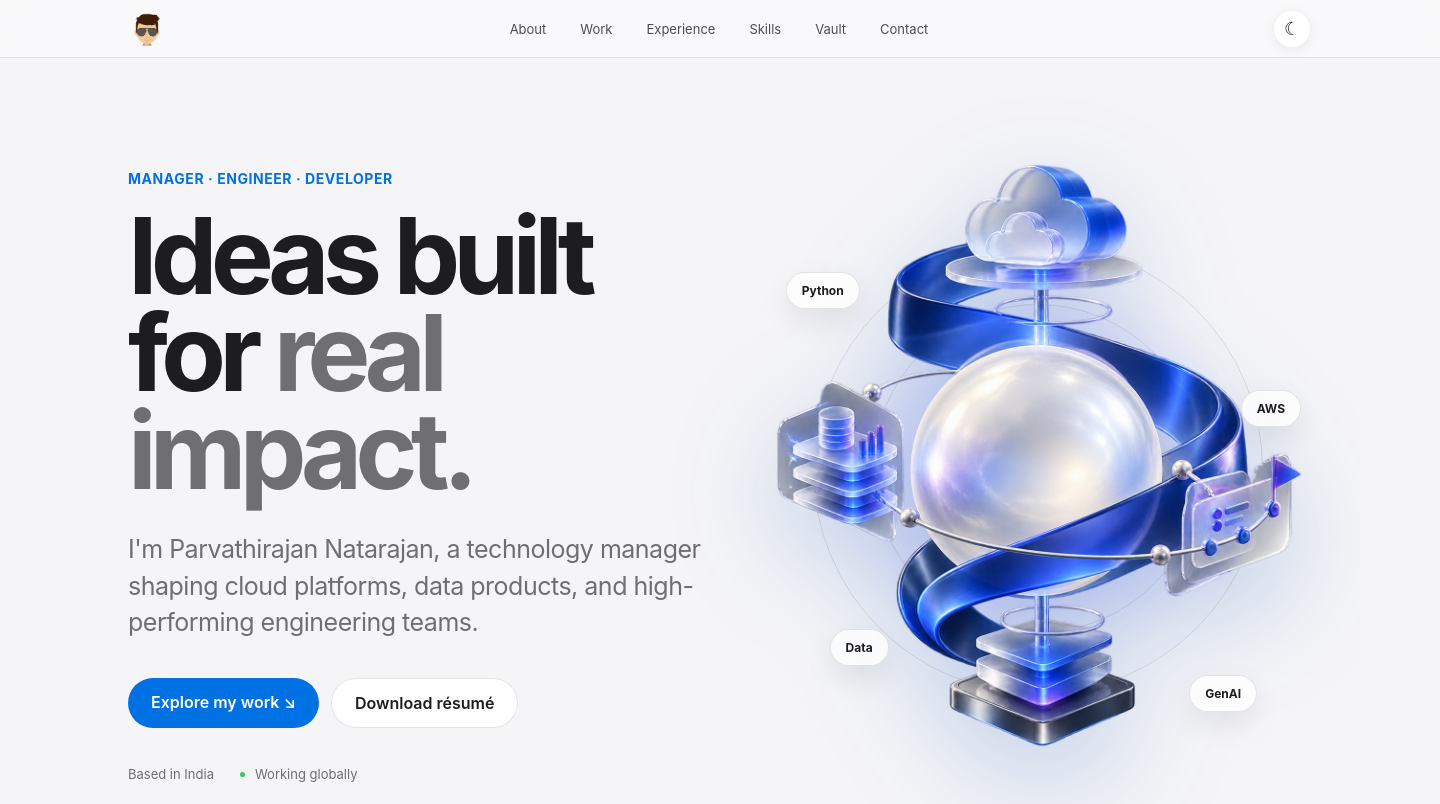
Test: locks the vault for five minutes after three incorrect passcodes
Step 1. Click the link "vault" → (831, 28), box x1=815 y1=20 x2=846 y2=36
(page scrolled)
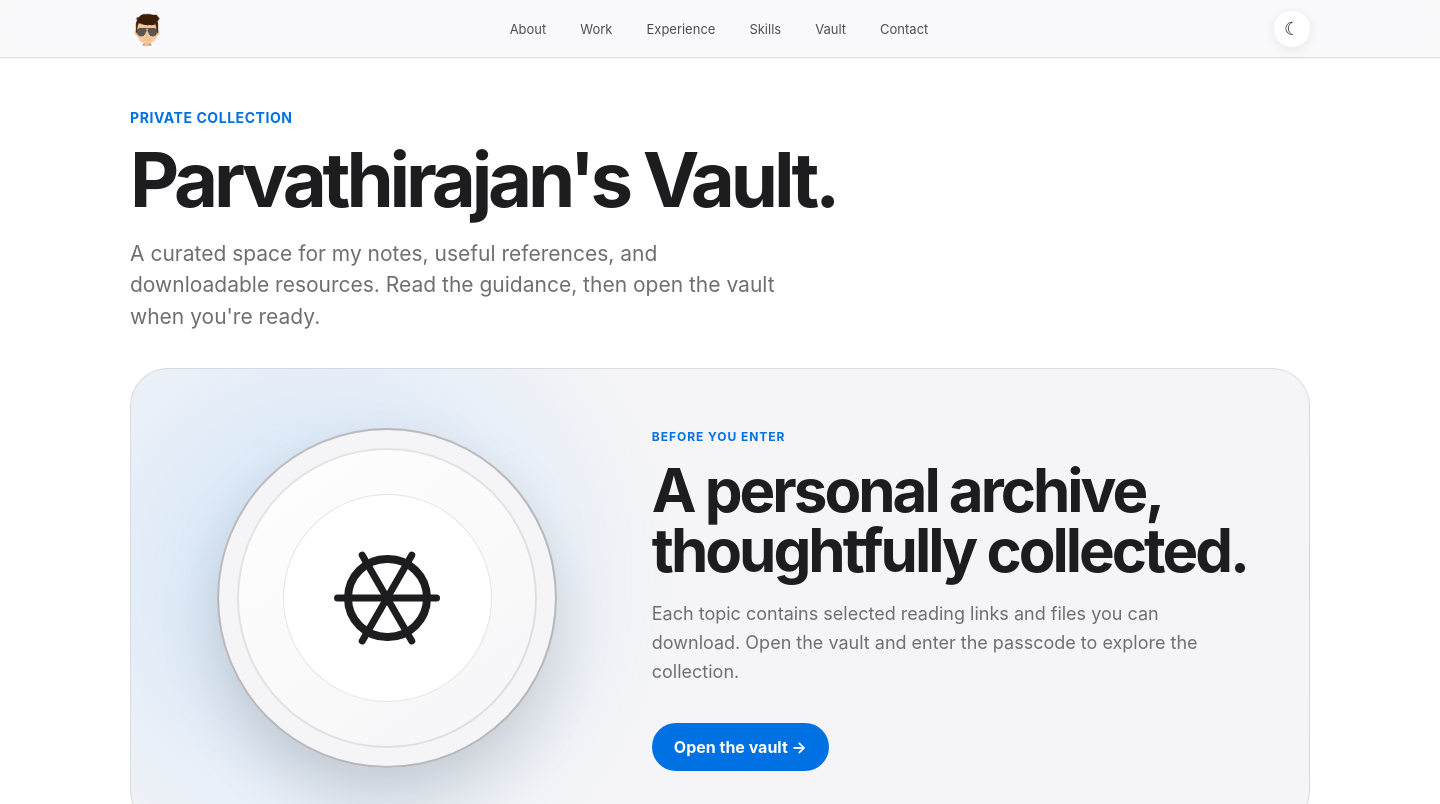
Step 2. Click the button "Open the vault →" → (740, 747), box x1=652 y1=723 x2=829 y2=771
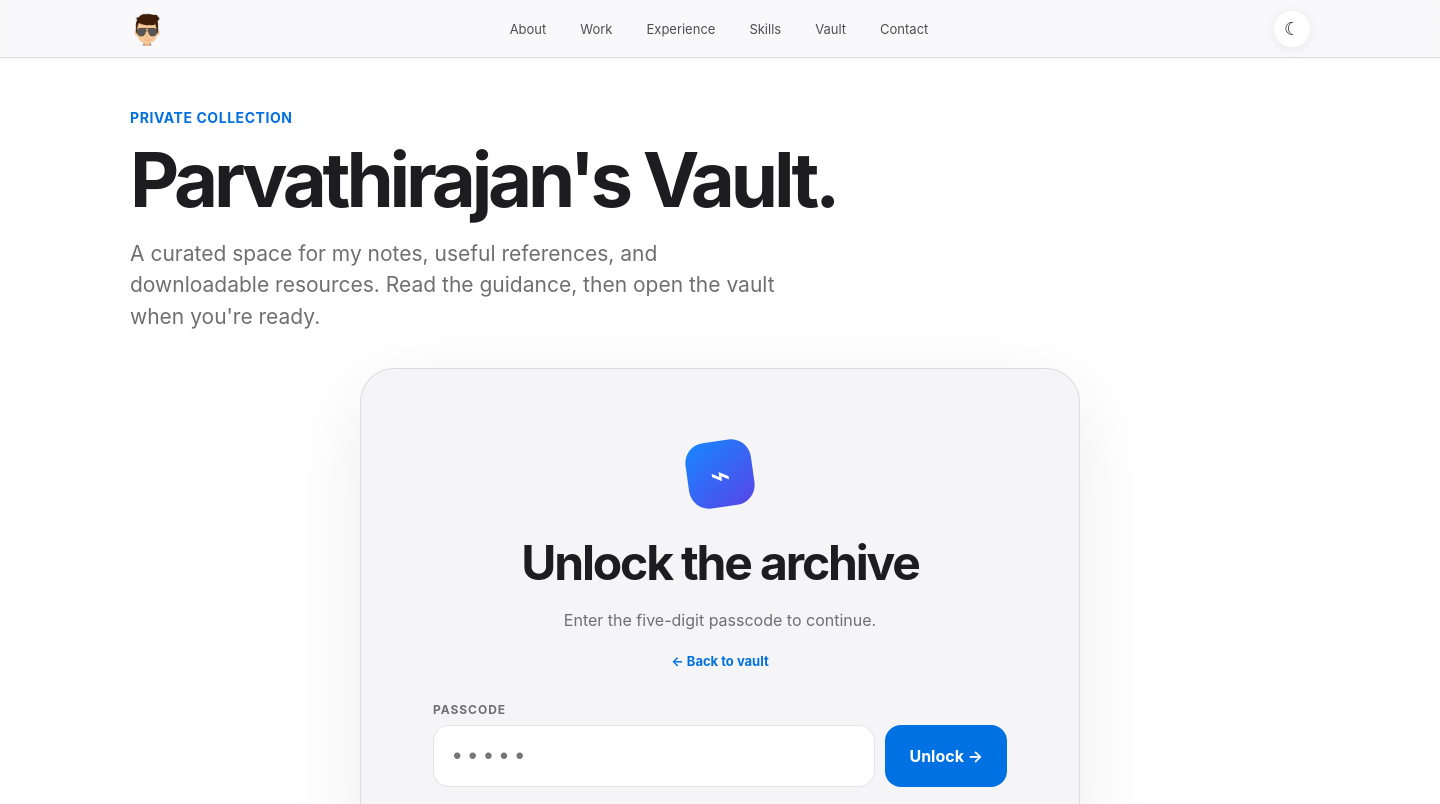
Step 3. Type "12345" into the password field labelled "Passcode" → (654, 756), box x1=433 y1=725 x2=875 y2=787
Step 4. Click the button "Unlock →" → (946, 756), box x1=885 y1=725 x2=1007 y2=787
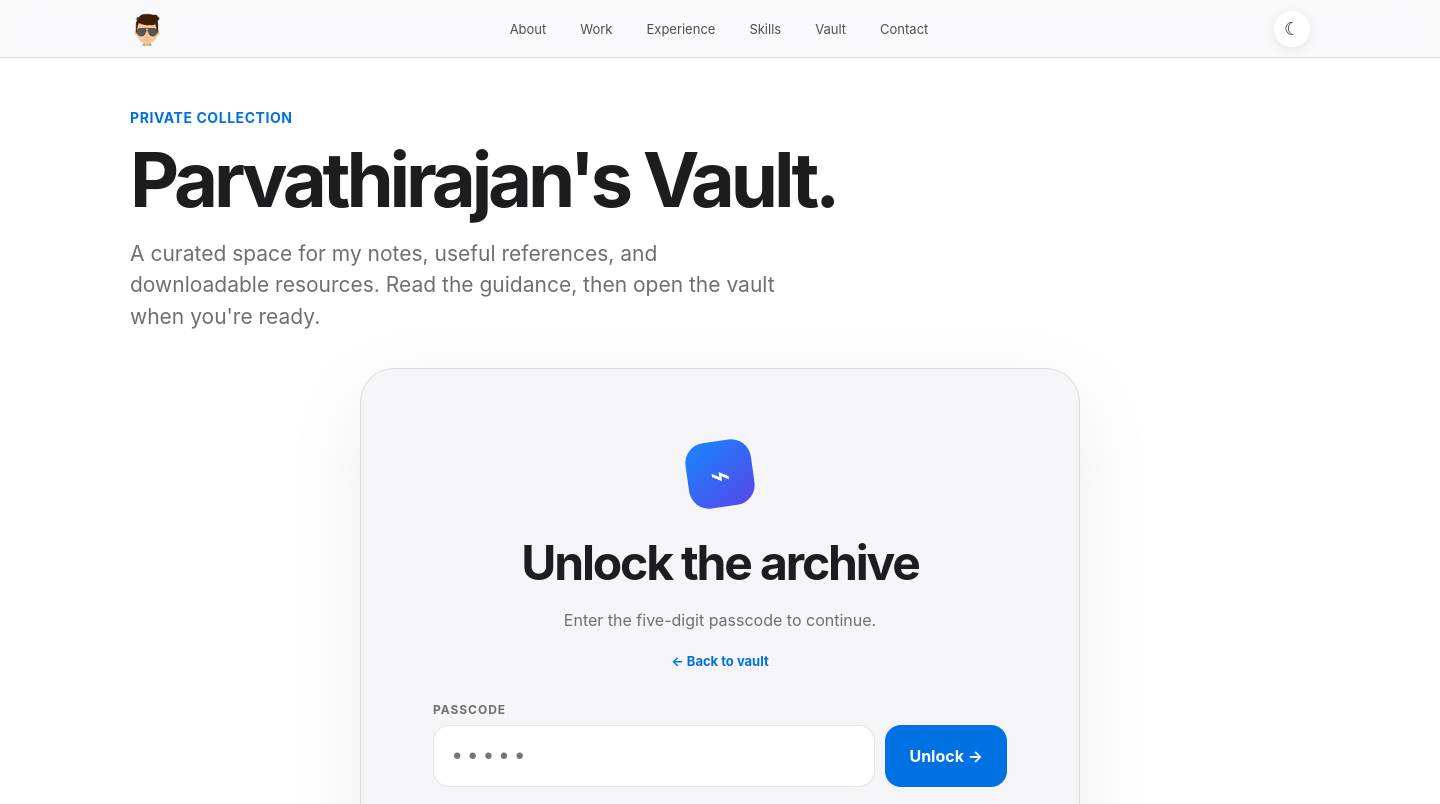
Step 5. Type "12345" into the password field labelled "Passcode" → (654, 756), box x1=433 y1=725 x2=875 y2=787
Step 6. Click the button "Unlock →" → (946, 756), box x1=885 y1=725 x2=1007 y2=787
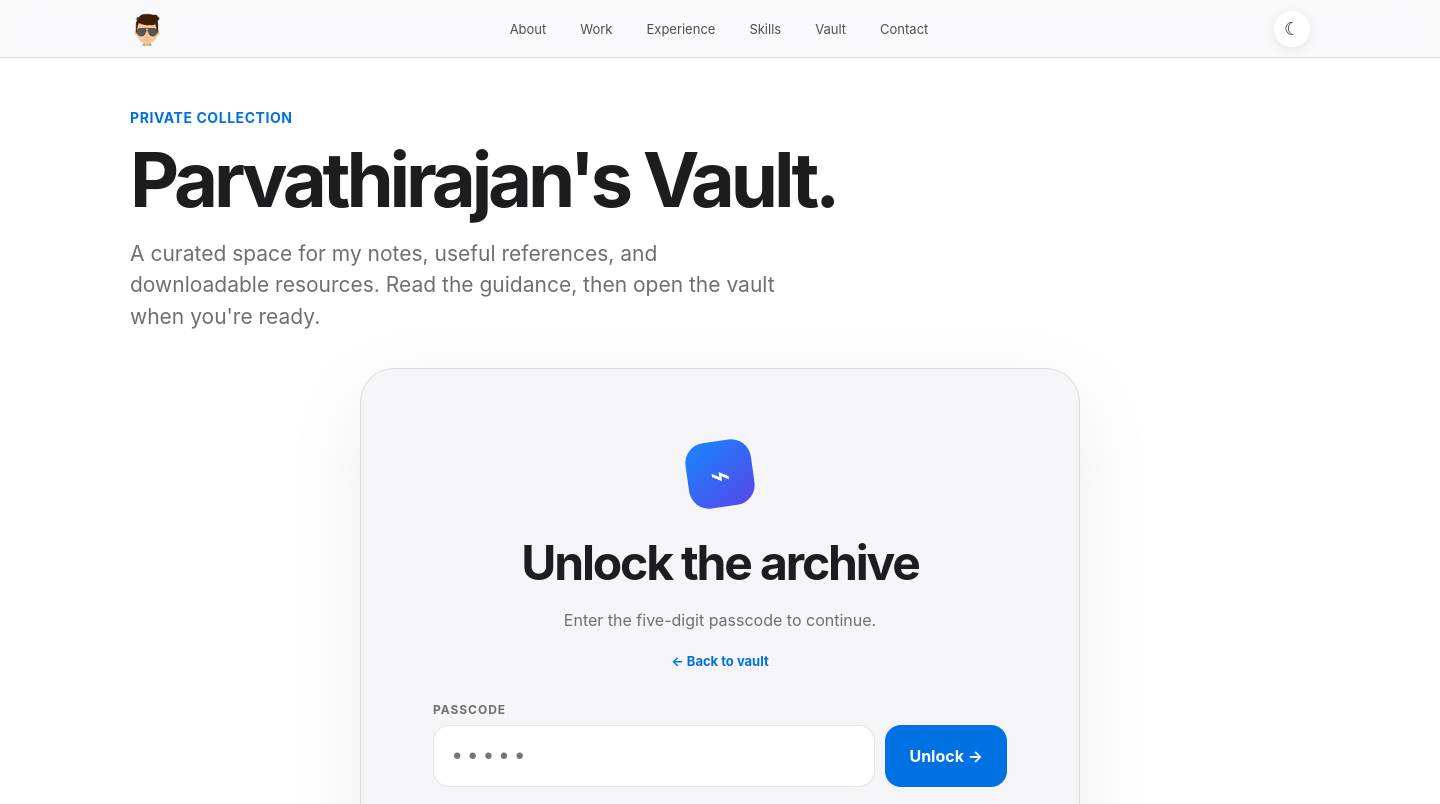
Step 7. Type "12345" into the password field labelled "Passcode" → (654, 756), box x1=433 y1=725 x2=875 y2=787
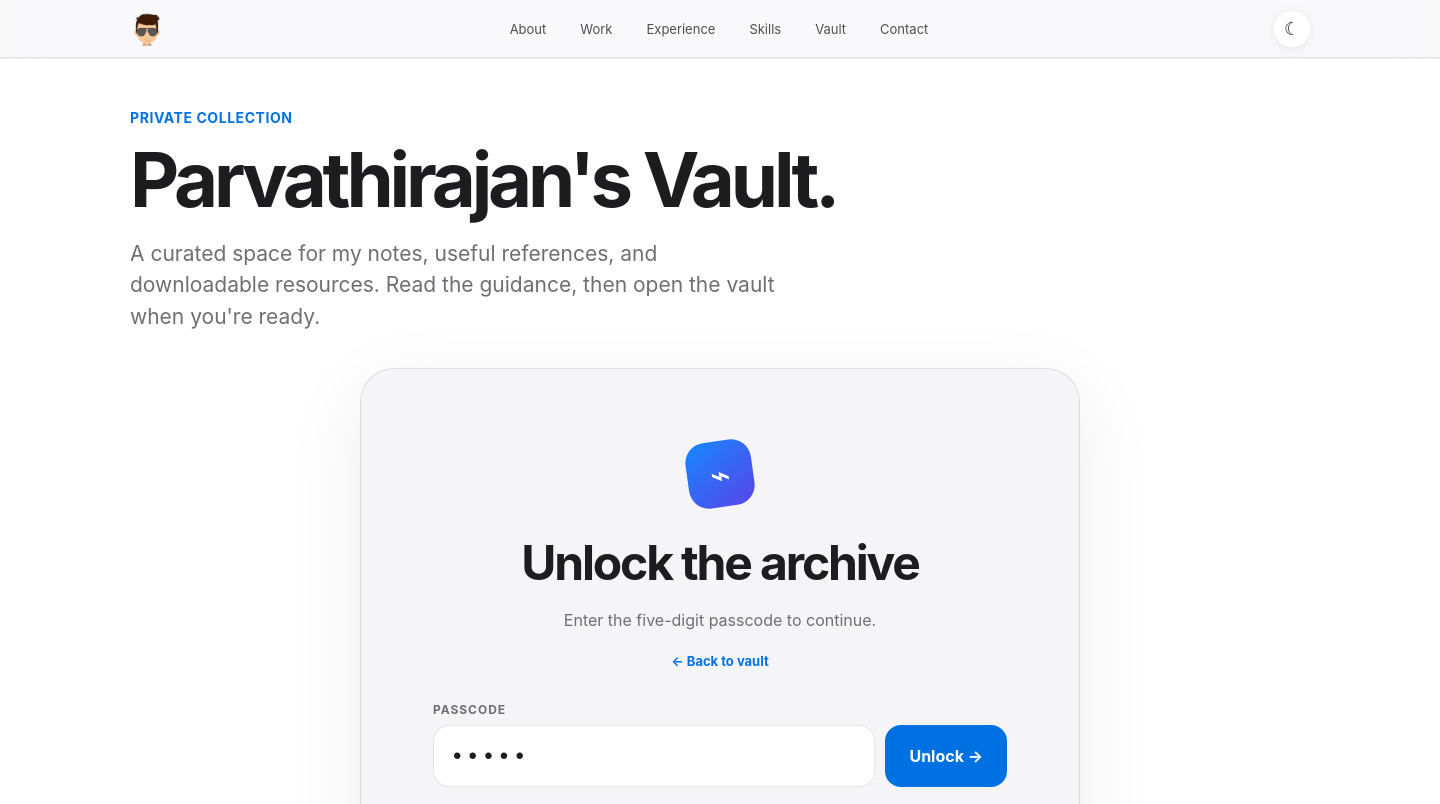
Step 8. Click the button "Unlock →" → (946, 756), box x1=885 y1=725 x2=1007 y2=787
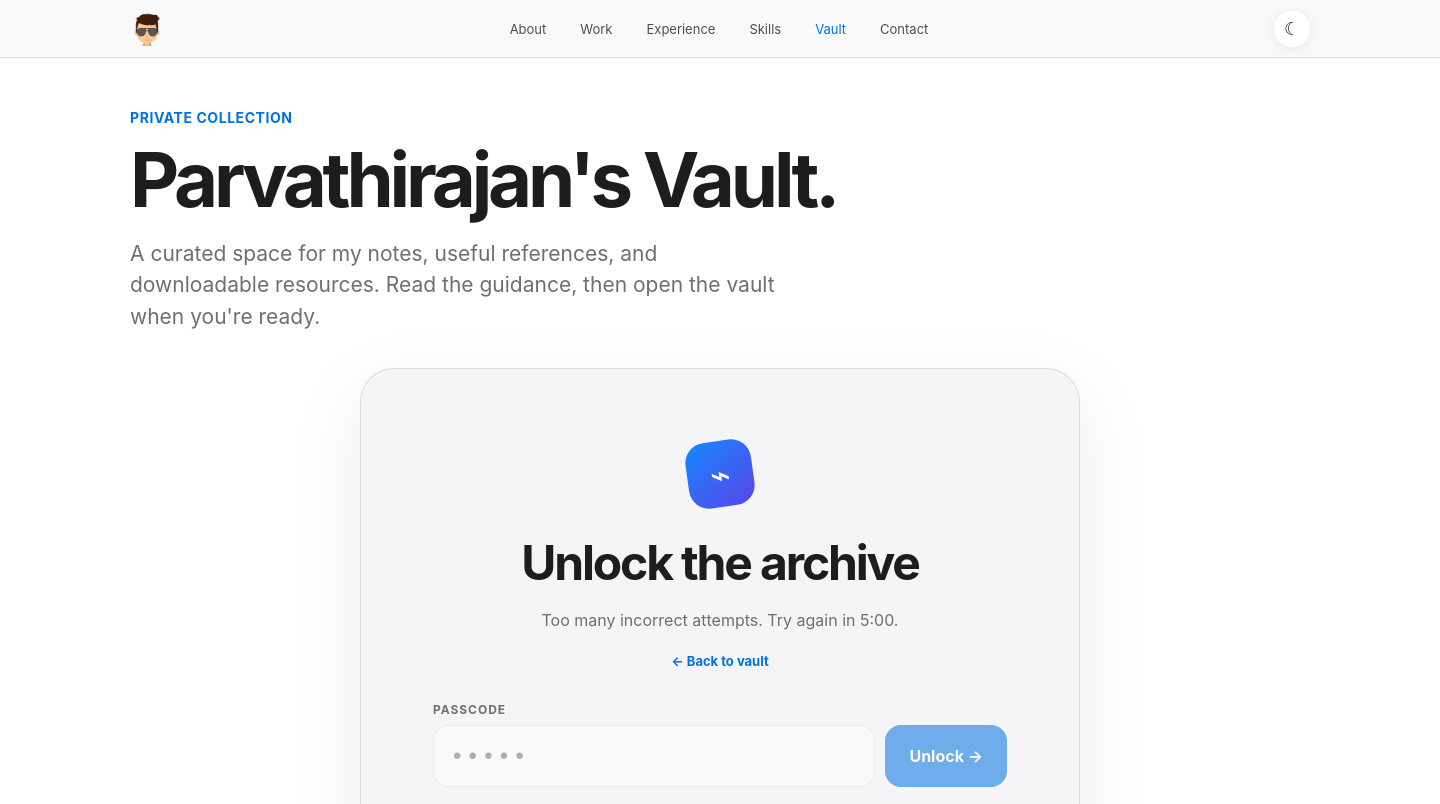
Expected: the password field labelled "Passcode" is disabled, x1=433 y1=725 x2=875 y2=787
Expected: the button "Unlock →" is disabled, x1=885 y1=725 x2=1007 y2=787
